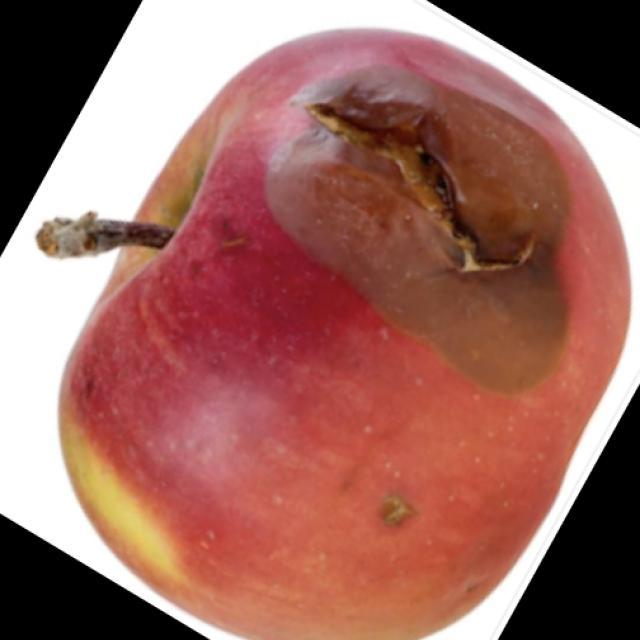Rotten: (51, 25, 632, 640)
